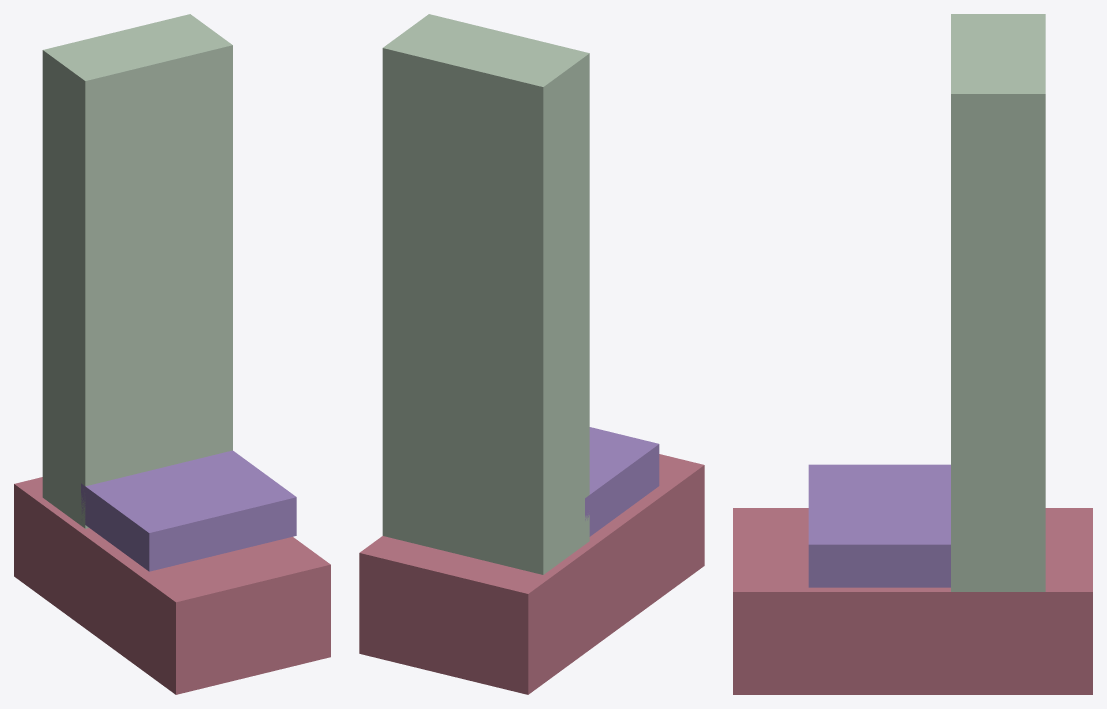
3 views of the same model, side by side, from view 1: azimuth 30°, elevation 25°; view 2: azimuth 150°, elevation 25°; view 3: azimuth 270°, elevation 25° (orthographic). The views are drawn at different scales.
Parts seen in each view (by area): view 1: world; view 2: world; view 3: world.
Part boxes in pixels (left/top/right/bottom): world: left=14, top=14, right=330, bottom=694; world: left=359, top=14, right=704, bottom=694; world: left=733, top=14, right=1092, bottom=694.
Bounding box in the file's own units: 2.1 × 7 × 3.8.
